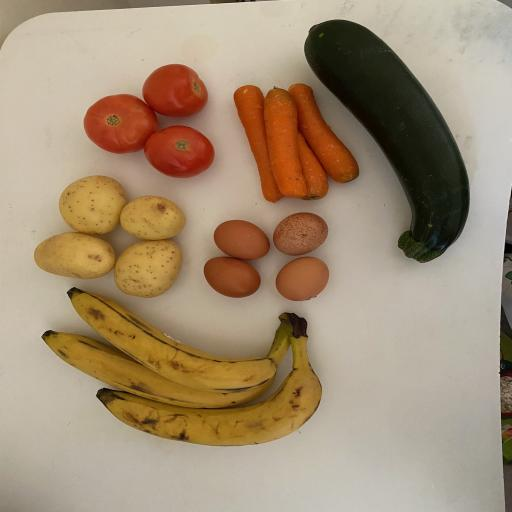banana: (92, 315, 324, 455), (58, 286, 290, 396), (35, 330, 286, 411)
carrot: (283, 79, 364, 186), (226, 80, 286, 207), (261, 83, 310, 199), (290, 130, 333, 202)
courgette: (298, 17, 473, 267)
egg: (198, 252, 266, 302), (270, 254, 336, 305), (271, 206, 332, 260), (208, 216, 274, 264)
potato: (52, 171, 132, 240), (110, 236, 189, 300), (31, 228, 122, 282), (116, 192, 192, 242)
tomato: (78, 89, 161, 156), (141, 122, 222, 182), (140, 60, 212, 120)
